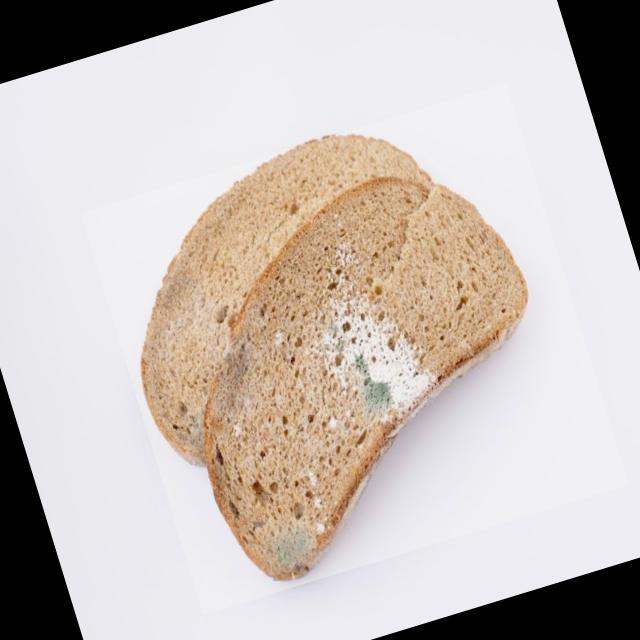Food waste: (80, 82, 628, 614)
